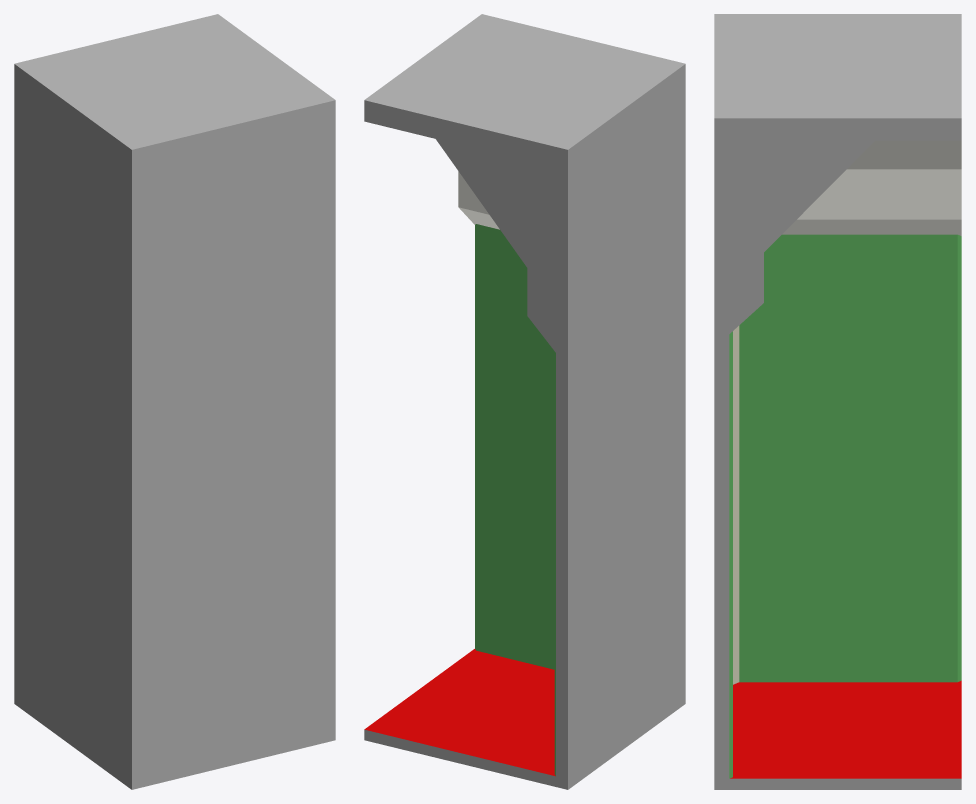
File: WallBase_RoomCornerA.fbx
The picture shows the model from 3 angles, left to right: view 1: azimuth 30°, elevation 25°; view 2: azimuth 150°, elevation 25°; view 3: azimuth 270°, elevation 25°; orthographic projection. The views are drawn at different scales.
Visible parts, largest first — view 1: WallBase_RoomCornerA; view 2: WallBase_RoomCornerA; view 3: WallBase_RoomCornerA.
Part boxes in pixels (x1=…): WallBase_RoomCornerA: x1=14, y1=14, x2=335, y2=789; WallBase_RoomCornerA: x1=364, y1=14, x2=685, y2=789; WallBase_RoomCornerA: x1=714, y1=14, x2=961, y2=789.
Bounding box in the file's own units: 100 × 300 × 100.
